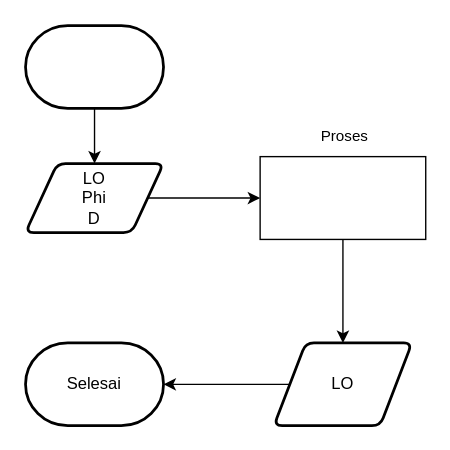
This 450x450 diagram has some shape labels left out. Each missing label, with the box of its shape:
LO=Phi x D: (259, 155, 426, 239)
Mulai: (23, 23, 164, 109)
